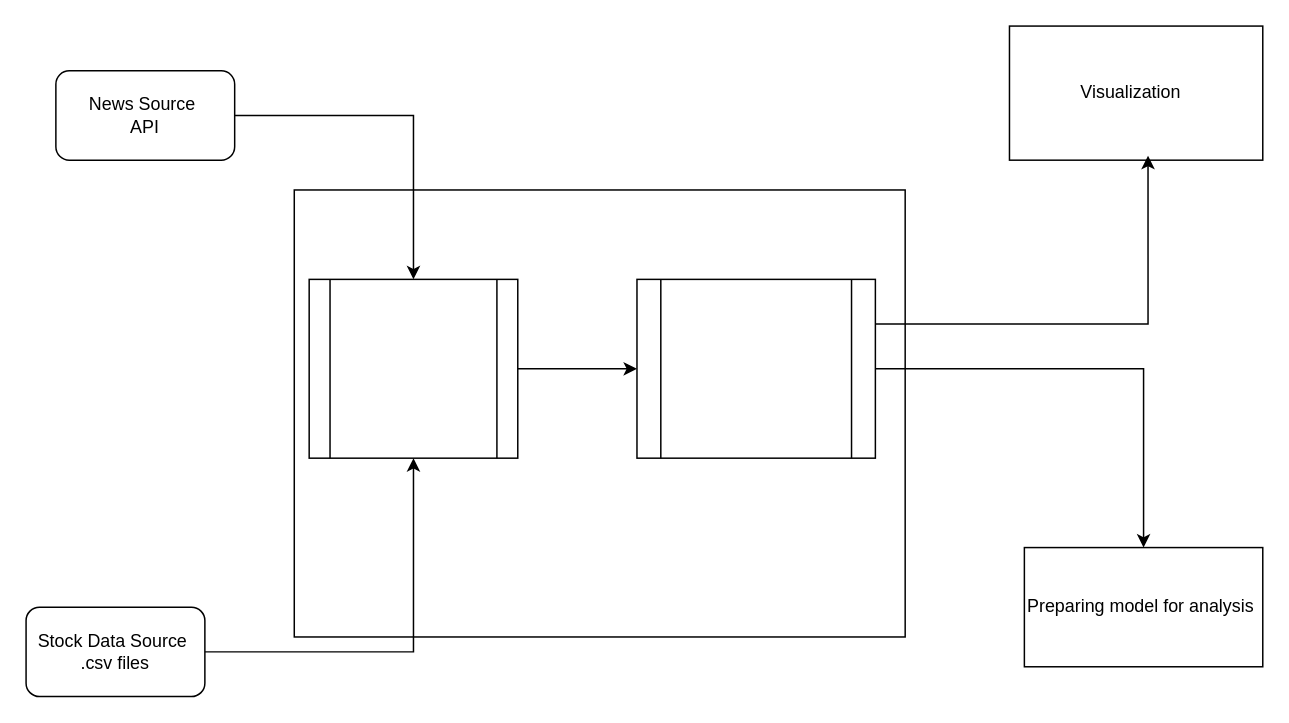
This 1289x723 diagram has some shape labels left out. The centre of each missing label's shape, as x and y in pixels:
Data Cleaning: pixel 413 368
EDA: pixel 755 368
